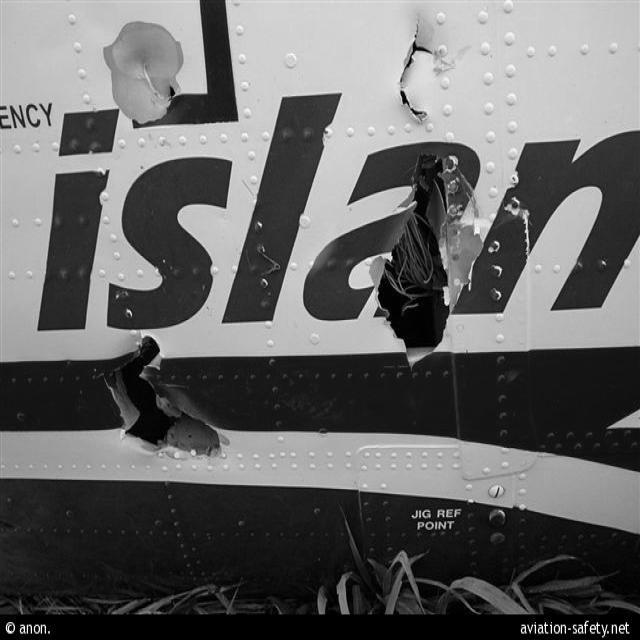crack: (368, 148, 467, 372), (96, 332, 230, 462), (395, 8, 453, 130), (138, 54, 181, 105)
